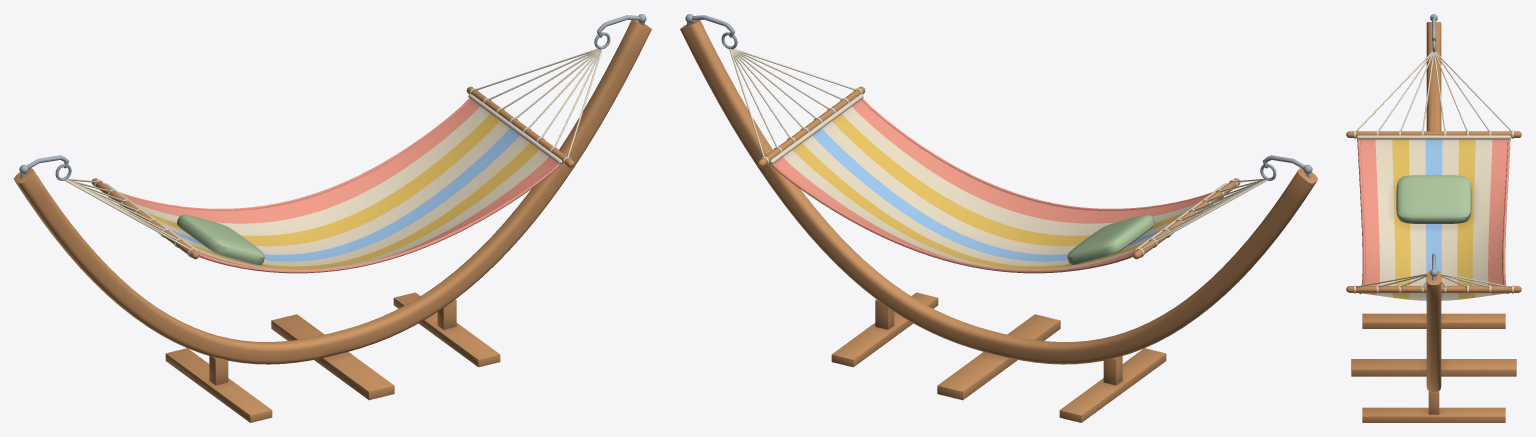
The model's file is hammock.glb.
3 views of the same model, side by side, from view 1: azimuth 30°, elevation 25°; view 2: azimuth 150°, elevation 25°; view 3: azimuth 270°, elevation 25° (orthographic). The views are drawn at different scales.
Visible parts, largest first — view 1: hammock_body; view 2: hammock_body; view 3: hammock_body.
Part boxes in pixels (x1,y1,x2,y2): hammock_body: (14,14,651,422); hammock_body: (680,14,1317,422); hammock_body: (1346,14,1521,422).
Size of the model in its own units: 3.44 by 1.43 by 0.978.
1 material, 1 textured.
